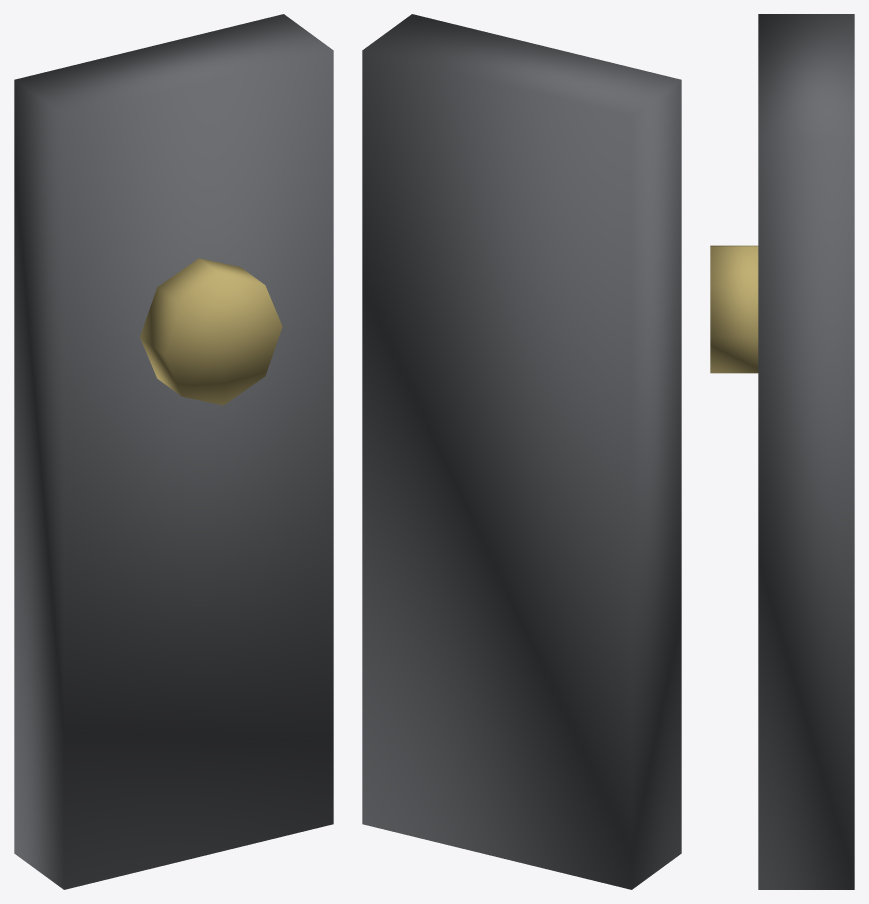
The model's file is elevator_call_01.glb.
3 views of the same model, side by side, from view 1: azimuth 30°, elevation 25°; view 2: azimuth 150°, elevation 25°; view 3: azimuth 270°, elevation 25° (orthographic). The views are drawn at different scales.
Parts seen in each view (by area): view 1: world; view 2: world; view 3: world.
Boxes of the visible parts, bbox=[...] form: world: bbox=[14, 14, 333, 889]; world: bbox=[362, 14, 681, 889]; world: bbox=[710, 14, 854, 889].
Size of the model in its own units: 0.1408 by 0.3864 by 0.0675.
